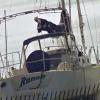Boat: (3, 32, 100, 100)
